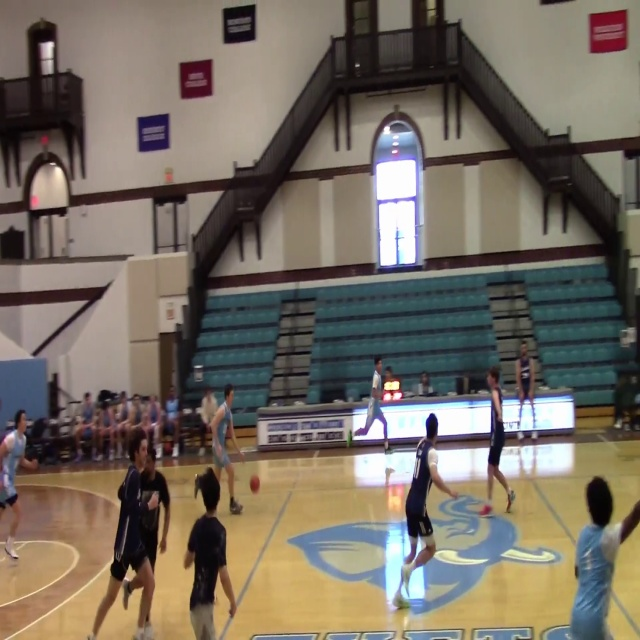Basketball: (249, 475, 260, 493)
